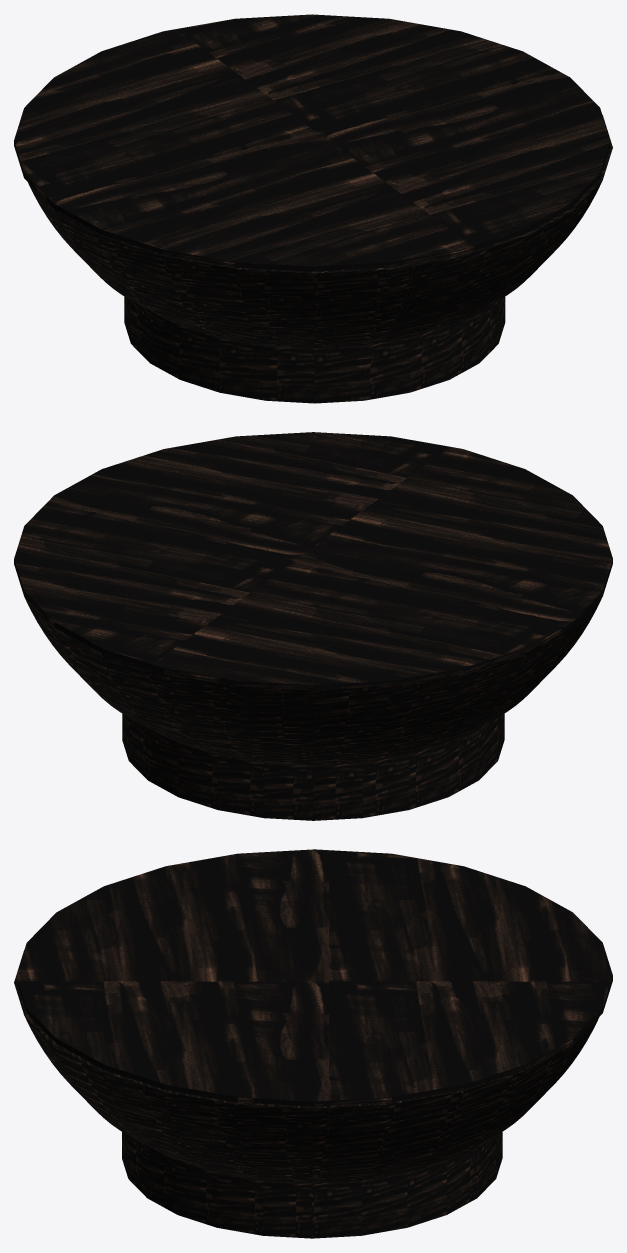
The picture shows the model from 3 angles, top to bottom: view 1: azimuth 30°, elevation 25°; view 2: azimuth 150°, elevation 25°; view 3: azimuth 270°, elevation 25°; orthographic projection.
Parts seen in each view (by area): view 1: Group_002, Group_001; view 2: Group_002, Group_001; view 3: Group_002, Group_001.
Boxes of the visible parts, box(x1,y1,x2,y2) form: Group_002: box(14, 14, 610, 271); Group_001: box(28, 115, 612, 403); Group_002: box(14, 432, 612, 690); Group_001: box(14, 564, 601, 820); Group_002: box(16, 849, 612, 1106); Group_001: box(14, 950, 599, 1238).
Size of the model in its own units: 45.93 by 15.42 by 46.
